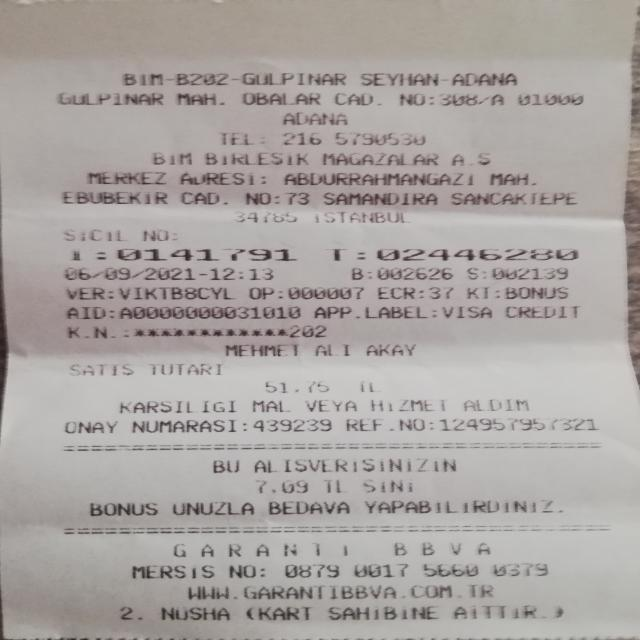text: (381, 240, 578, 264), (187, 584, 493, 598), (119, 240, 296, 264), (284, 168, 472, 187), (253, 458, 461, 473), (170, 541, 353, 557), (119, 306, 300, 322), (363, 499, 552, 514), (451, 188, 576, 208), (444, 416, 599, 432), (324, 188, 437, 208), (322, 149, 438, 168), (62, 188, 167, 208), (205, 148, 308, 168), (314, 303, 426, 321), (58, 88, 163, 106), (325, 605, 436, 620), (118, 399, 236, 413), (392, 540, 494, 556), (118, 286, 234, 300), (132, 418, 240, 433), (450, 602, 540, 620), (148, 263, 232, 282), (242, 71, 346, 86), (86, 168, 166, 186), (378, 263, 452, 282), (242, 89, 320, 107), (314, 210, 414, 224), (224, 340, 299, 358), (132, 563, 216, 579), (505, 303, 579, 321), (334, 130, 427, 144), (172, 500, 254, 515), (252, 418, 332, 433), (179, 170, 253, 186), (267, 500, 350, 514), (492, 266, 569, 281), (370, 397, 444, 412), (360, 71, 433, 86), (282, 110, 347, 126), (464, 396, 528, 412), (161, 605, 229, 620), (148, 361, 220, 375), (422, 560, 478, 578), (450, 71, 517, 86), (504, 284, 568, 299), (489, 561, 549, 577), (351, 562, 411, 578), (88, 501, 156, 515), (284, 561, 339, 578), (236, 209, 297, 224), (519, 92, 584, 106), (366, 340, 415, 358), (63, 418, 117, 434), (258, 605, 314, 620), (446, 303, 492, 321), (362, 478, 417, 493), (70, 362, 133, 375), (265, 380, 328, 393), (64, 227, 122, 241), (175, 71, 226, 86), (282, 128, 322, 147), (180, 188, 218, 208), (255, 479, 308, 493), (152, 148, 188, 168), (306, 398, 356, 412), (176, 89, 214, 107), (334, 90, 372, 108), (64, 303, 101, 321), (245, 188, 278, 208), (314, 340, 349, 358), (289, 324, 330, 339), (490, 169, 524, 187), (219, 128, 252, 146), (64, 285, 102, 300), (67, 324, 105, 339), (249, 398, 289, 412), (452, 152, 491, 166), (347, 417, 381, 433), (122, 71, 155, 86), (378, 284, 411, 299), (62, 263, 88, 282), (440, 92, 474, 106), (400, 90, 426, 107), (288, 188, 308, 208), (213, 457, 238, 473), (228, 562, 253, 578), (107, 263, 128, 282), (252, 263, 273, 282), (467, 284, 492, 299), (325, 245, 345, 263), (428, 284, 452, 299), (401, 417, 425, 432), (119, 605, 142, 620), (353, 380, 381, 392), (248, 285, 270, 300), (143, 227, 166, 241), (324, 478, 341, 493), (98, 240, 108, 264), (67, 245, 81, 262), (378, 90, 387, 107), (352, 263, 359, 282), (467, 268, 477, 280), (388, 417, 396, 432), (428, 417, 436, 432), (137, 263, 143, 282), (238, 263, 244, 282), (368, 263, 374, 282), (356, 246, 363, 262), (258, 562, 265, 578), (110, 303, 116, 321), (432, 303, 438, 321), (108, 285, 115, 300), (250, 605, 257, 620), (497, 90, 503, 107), (482, 268, 489, 282), (168, 71, 174, 86), (232, 71, 238, 86), (419, 284, 425, 299), (494, 284, 500, 299), (242, 418, 248, 433), (221, 196, 229, 207), (430, 90, 435, 107), (483, 90, 488, 107), (278, 285, 284, 299), (557, 498, 563, 512), (444, 71, 449, 86), (530, 180, 537, 188), (286, 188, 286, 208)
